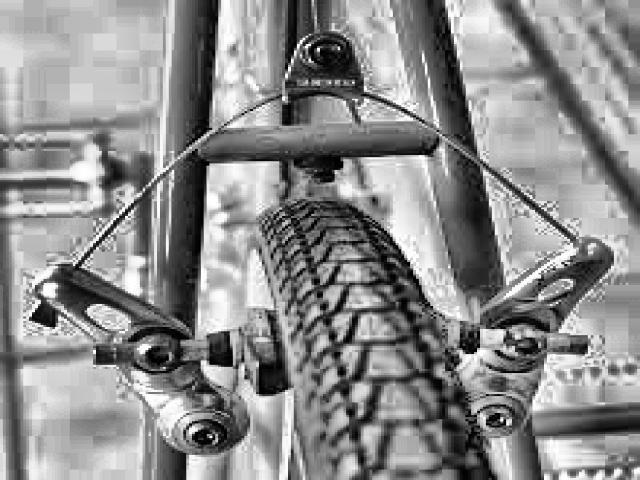rim_brake: (25, 228, 626, 454)
